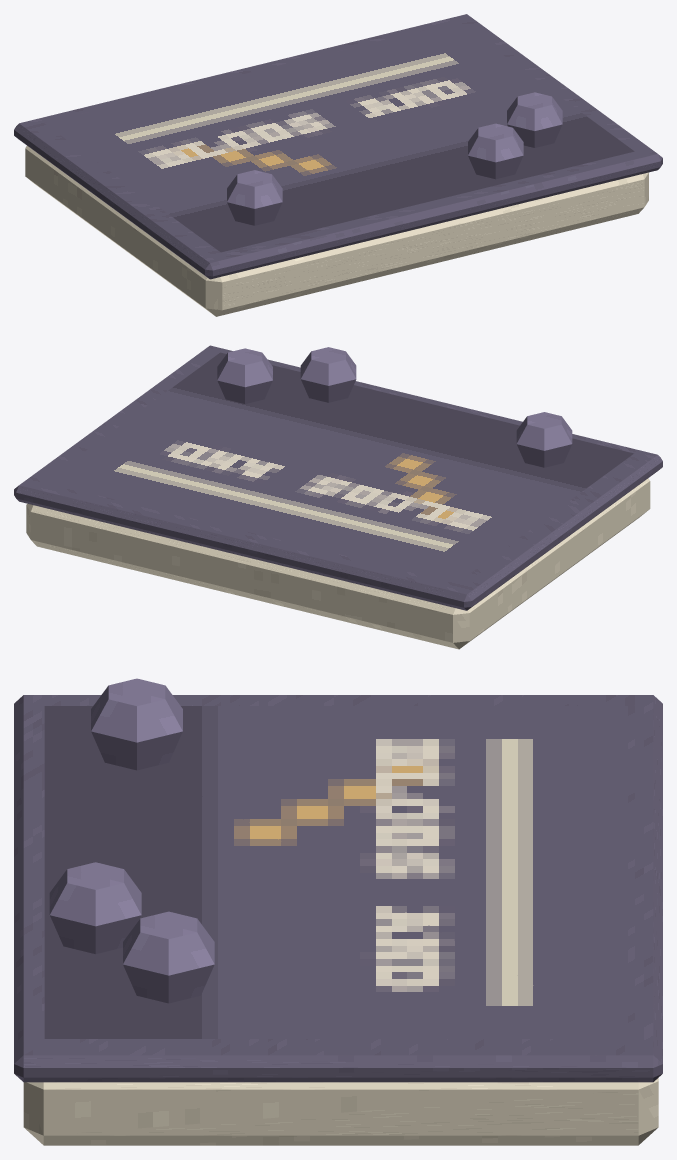
File: dnd.glb
The picture shows the model from 3 angles, top to bottom: view 1: azimuth 30°, elevation 25°; view 2: azimuth 150°, elevation 25°; view 3: azimuth 270°, elevation 25°; orthographic projection. The views are drawn at different scales.
Visible parts, largest first — view 1: block_printed original game cover, block_roleplaying rulebook, block_printed rulebook cover, block_game die (×3); view 2: block_printed original game cover, block_roleplaying rulebook, block_printed rulebook cover, block_game die (×3); view 3: block_printed original game cover, block_printed rulebook cover, block_roleplaying rulebook, block_game die (×3).
Part boxes in pixels (x1,y1,x2,y2): block_printed original game cover: (44, 22, 634, 252); block_roleplaying rulebook: (25, 146, 648, 316); block_printed rulebook cover: (14, 14, 662, 279); block_game die (×3): (227, 92, 562, 225); block_printed original game cover: (44, 352, 633, 582); block_roleplaying rulebook: (26, 478, 650, 649); block_printed rulebook cover: (14, 345, 662, 610); block_game die (×3): (217, 347, 572, 467); block_printed original game cover: (44, 706, 627, 1038); block_printed rulebook cover: (14, 695, 662, 1082); block_roleplaying rulebook: (23, 1078, 658, 1145); block_game die (×3): (49, 678, 214, 1003).
Bounding box in the file's own units: 0.2047 × 0.0433 × 0.1524.
1 material, 1 textured.
